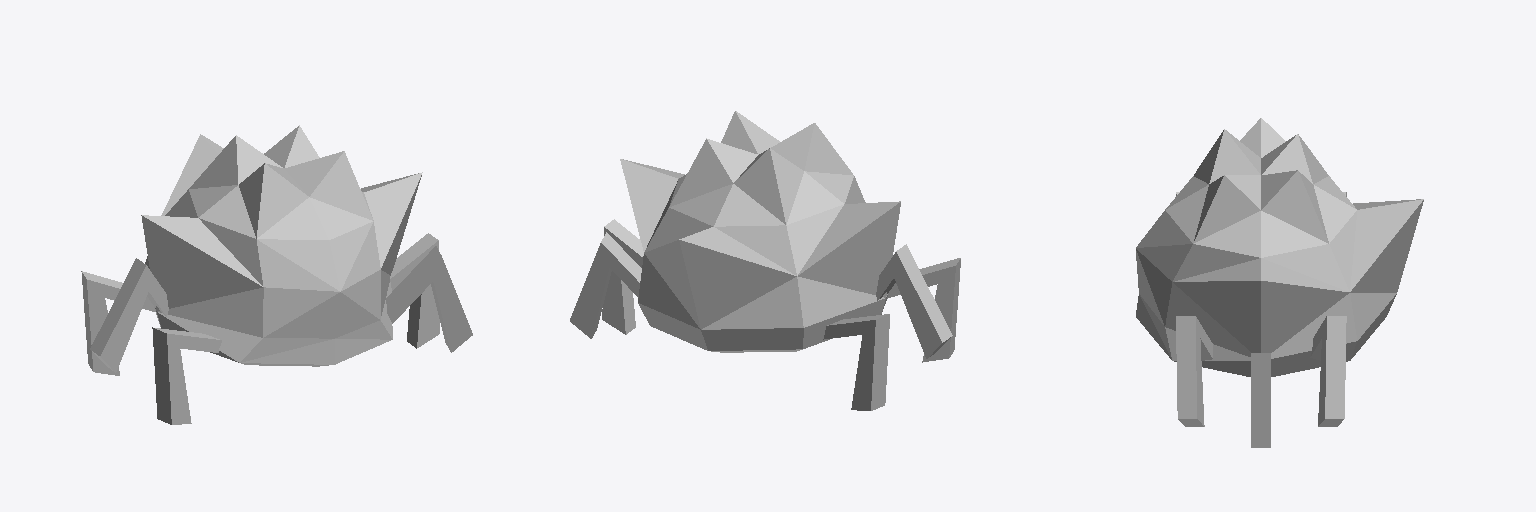
The model's file is neon_tick_3.obj.
3 renders of one model, left to right at view 1: azimuth 30°, elevation 25°; view 2: azimuth 150°, elevation 25°; view 3: azimuth 270°, elevation 25°, orthographic.
Size of the model in its own units: 1.45 by 0.9568 by 1.06.